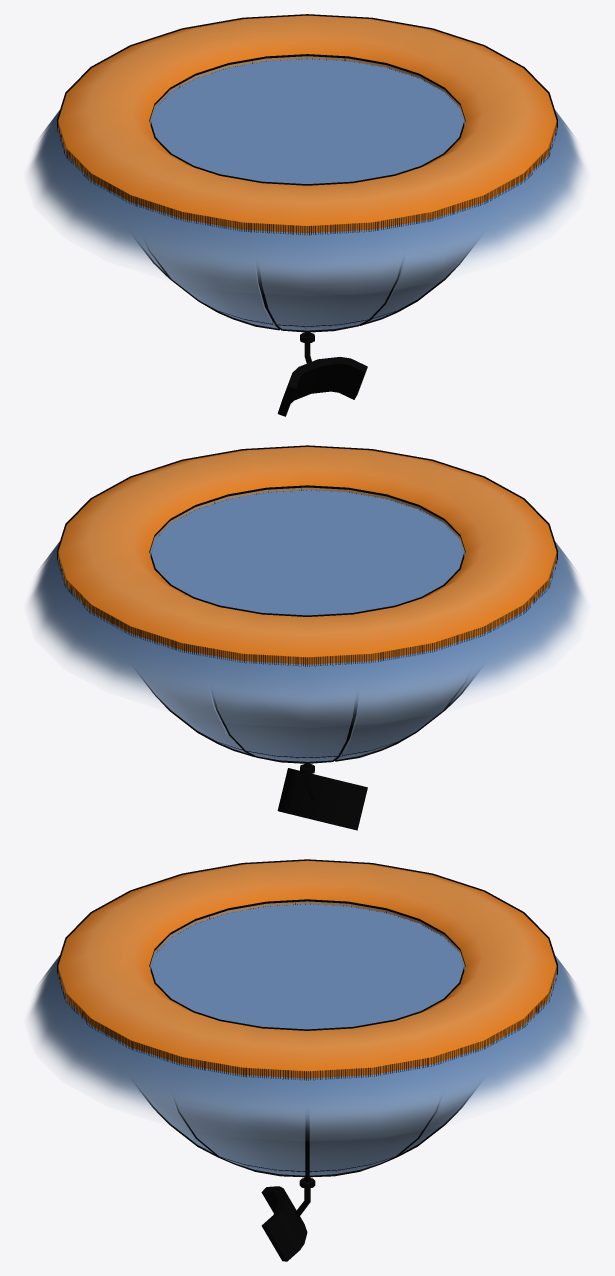
The model's file is SciFi_Capsule.glb.
3 views of the same model, one above another, from view 1: azimuth 30°, elevation 25°; view 2: azimuth 150°, elevation 25°; view 3: azimuth 270°, elevation 25° (orthographic).
Visible parts, largest first — view 1: SciFi_Capsule; view 2: SciFi_Capsule; view 3: SciFi_Capsule.
Part boxes in pixels (x1,y1,x2,y2): SciFi_Capsule: [29, 14, 585, 416]; SciFi_Capsule: [29, 445, 585, 830]; SciFi_Capsule: [29, 859, 585, 1261].
Size of the model in its own units: 3.72 by 2.04 by 3.72.
3 materials, 2 textured.
